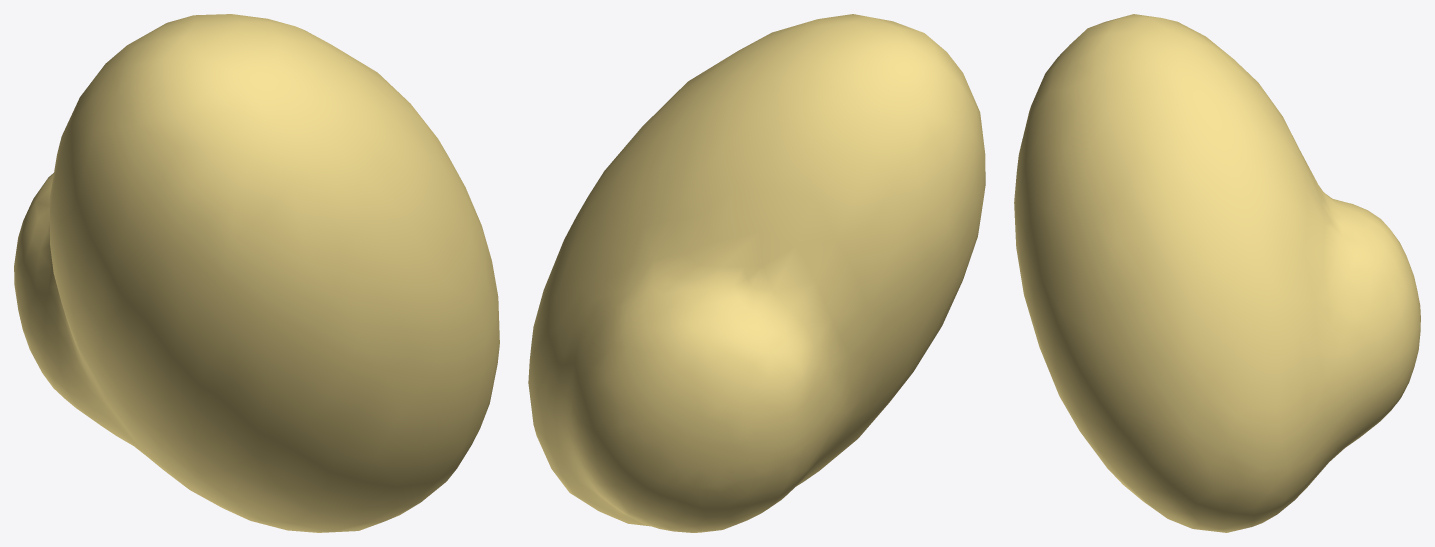
Rendered from fma73357_mm2966m.glb.
3 views of the same model, side by side, from view 1: azimuth 30°, elevation 25°; view 2: azimuth 150°, elevation 25°; view 3: azimuth 270°, elevation 25° (orthographic). The views are drawn at different scales.
Parts seen in each view (by area): view 1: FMA73357_MM2966M; view 2: FMA73357_MM2966M; view 3: FMA73357_MM2966M.
Boxes of the visible parts, box(x1,y1,x2,y2) form: FMA73357_MM2966M: box(14, 14, 499, 532); FMA73357_MM2966M: box(528, 14, 985, 532); FMA73357_MM2966M: box(1014, 14, 1420, 532).
Bounding box in the file's own units: 0.00194 × 0.0024 × 0.00206.
